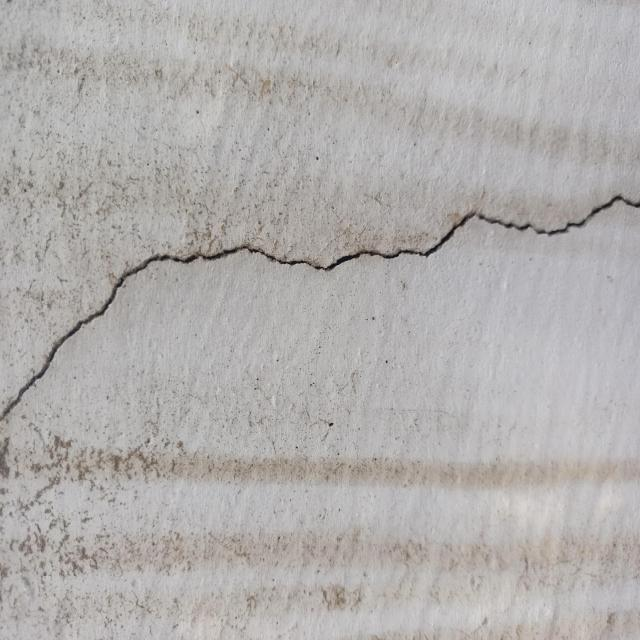SurfaceCrack: (1, 153, 640, 319)
